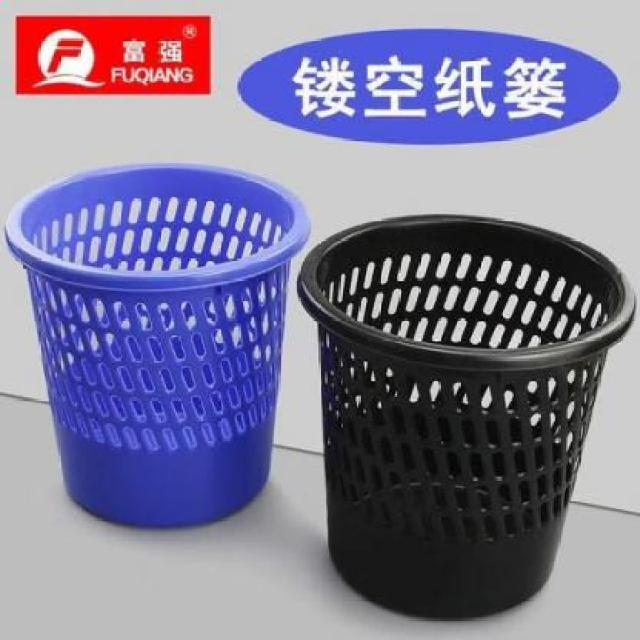dustbin: (292, 211, 640, 626), (1, 156, 314, 534)
